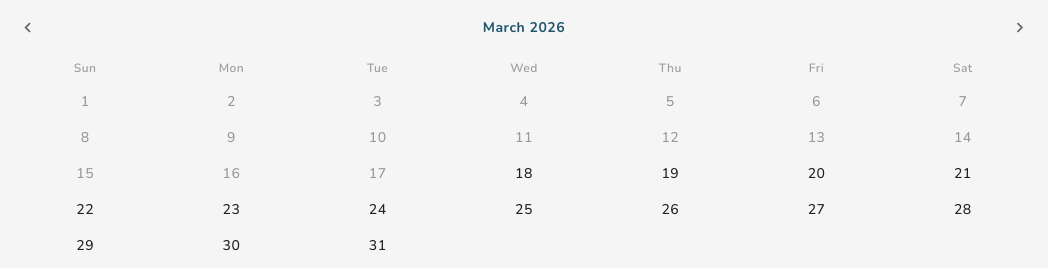
Test case: MultiDatePicker › navigates to next month
Click the button named "Next month" at [1020, 28], box [1004, 12, 1036, 44]
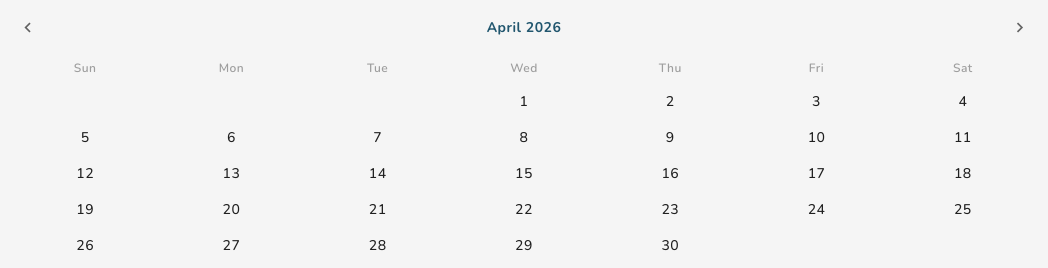
Check: the text "April 2026" is shown, box [487, 18, 561, 38]
